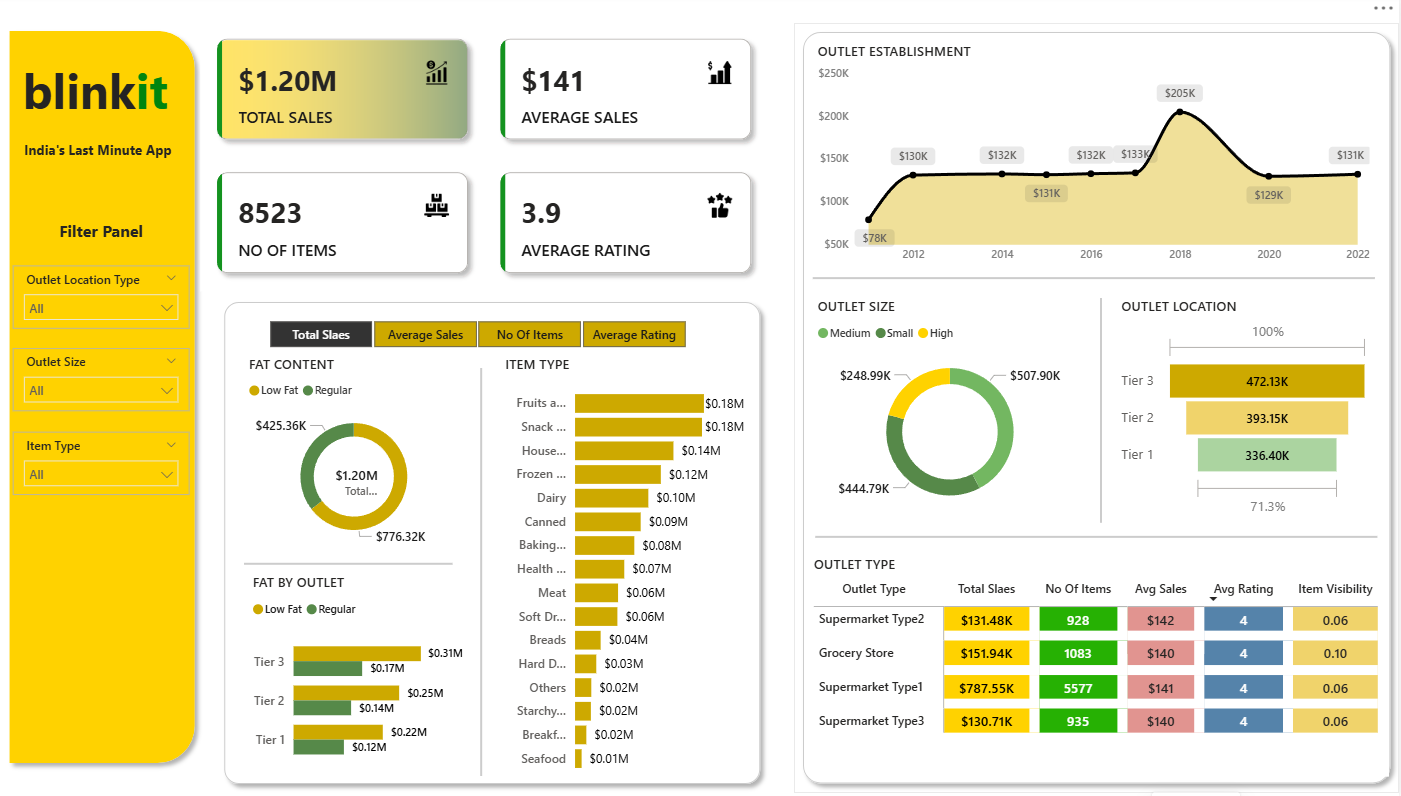

The dashboard page shown, as its layout file describes it:
{"tool":"powerbi","page":{"name":"Page 1","canvas":[1400,800],"ordinal":0},"visuals":[{"type":"shape","box":[1.3,24.2,203.5,750.4],"z":0},{"type":"textbox","box":[14,53.4,165.3,75],"z":1000},{"type":"textbox","box":[14,137.4,174.2,34.3],"z":2000},{"type":"cardVisual","fields":{"Data":["BlinkIT Grocery Data.Total Slaes","BlinkIT Grocery Data.Average Sales","BlinkIT Grocery Data.No Of Items","BlinkIT Grocery Data.Average Rating"]},"box":[200.9,24.2,569.8,269.6],"z":3000},{"type":"shape","box":[216,295,554,500],"z":4000},{"type":"donutChart","title":" FAT CONTENT","fields":{"Y":["BlinkIT Grocery Data.Total Slaes"],"Category":["BlinkIT Grocery Data.Item Fat Content"]},"box":[245.5,356.1,220,199.7],"z":5000},{"type":"slicer","fields":{"Values":["Metrics.Metrics"]},"box":[245.5,316.7,465.5,39.4],"z":6000},{"type":"cardVisual","fields":{"Data":["BlinkIT Grocery Data.Total Slaes"]},"box":[319.2,451.5,78.9,58.5],"z":7000},{"type":"clusteredBarChart","title":"FAT BY OUTLET","fields":{"Y":["BlinkIT Grocery Data.Total Slaes"],"Category":["BlinkIT Grocery Data.Outlet Location Type"],"Series":["BlinkIT Grocery Data.Item Fat Content"]},"box":[249.3,574.9,220,203.5],"z":8000},{"type":"shape","box":[245.5,555.8,208.6,19.1],"z":9000},{"type":"shape","box":[465.5,370.1,34.3,408.2],"z":10000},{"type":"barChart","title":"ITEM TYPE","fields":{"Y":["BlinkIT Grocery Data.Total Slaes"],"Category":["BlinkIT Grocery Data.Item Type"]},"box":[501.1,356.1,249.3,428.6],"z":11000},{"type":"shape","box":[794.9,25.4,605.4,769.4],"z":12000},{"type":"lineChart","title":"OUTLET ESTABLISHMENT","fields":{"Category":["BlinkIT Grocery Data.Outlet Establishment Year"],"Y":["BlinkIT Grocery Data.Total Slaes"]},"box":[814,43.2,562.1,230.2],"z":13000},{"type":"shape","box":[814,273.4,562.1,12.7],"z":14000},{"type":"donutChart","title":"OUTLET SIZE","fields":{"Y":["BlinkIT Grocery Data.Total Slaes"],"Category":["BlinkIT Grocery Data.Outlet Size"]},"box":[814,298.9,274.7,225.1],"z":15000},{"type":"shape","box":[1095,300.1,14,225.1],"z":16000},{"type":"funnel","title":"OUTLET LOCATION","fields":{"Y":["Sum(BlinkIT Grocery Data.Sales)"],"Category":["BlinkIT Grocery Data.Outlet Location Type"]},"box":[1117.9,298.9,258.2,225.1],"z":17000},{"type":"shape","box":[816.5,532.9,562.1,12.7],"z":18000},{"type":"pivotTable","title":"OUTLET TYPE","fields":{"Rows":["BlinkIT Grocery Data.Outlet Type"],"Values":["BlinkIT Grocery Data.Total Slaes","BlinkIT Grocery Data.No Of Items","BlinkIT Grocery Data.Average Sales","BlinkIT Grocery Data.Average Rating","Avg(BlinkIT Grocery Data.Item Visibility)"]},"box":[810.1,555.8,579.9,222.6],"z":19000},{"type":"slicer","fields":{"Values":["BlinkIT Grocery Data.Outlet Location Type"]},"box":[14,267.1,176.8,63.6],"z":20000},{"type":"slicer","fields":{"Values":["BlinkIT Grocery Data.Outlet Size"]},"box":[14,349.7,176.8,63.6],"z":21000},{"type":"slicer","fields":{"Values":["BlinkIT Grocery Data.Item Type"]},"box":[14,433.7,176.8,63.6],"z":22000},{"type":"textbox","box":[14,216.2,176.8,35.6],"z":23000}]}

Visuals, with their boxes in screenshot pixels (x1, y1, x2, y2), scaled from the page's 1400x800 canvas onto the 1401x796 screenshot:
shape: [x1=1, y1=24, x2=205, y2=771]
textbox: [x1=14, y1=53, x2=179, y2=128]
textbox: [x1=14, y1=137, x2=188, y2=171]
cardVisual - BlinkIT Grocery Data.Total Slaes x BlinkIT Grocery Data.Average Sales: [x1=201, y1=24, x2=771, y2=292]
shape: [x1=216, y1=294, x2=771, y2=791]
" FAT CONTENT" donutChart: [x1=246, y1=354, x2=466, y2=553]
slicer - Metrics.Metrics: [x1=246, y1=315, x2=712, y2=354]
cardVisual - BlinkIT Grocery Data.Total Slaes: [x1=319, y1=449, x2=398, y2=507]
"FAT BY OUTLET" clusteredBarChart: [x1=249, y1=572, x2=470, y2=775]
shape: [x1=246, y1=553, x2=454, y2=572]
shape: [x1=466, y1=368, x2=500, y2=774]
"ITEM TYPE" barChart: [x1=501, y1=354, x2=751, y2=781]
shape: [x1=795, y1=25, x2=1400, y2=791]
"OUTLET ESTABLISHMENT" lineChart: [x1=815, y1=43, x2=1377, y2=272]
shape: [x1=815, y1=272, x2=1377, y2=285]
"OUTLET SIZE" donutChart: [x1=815, y1=297, x2=1089, y2=521]
shape: [x1=1096, y1=299, x2=1110, y2=523]
"OUTLET LOCATION" funnel: [x1=1119, y1=297, x2=1377, y2=521]
shape: [x1=817, y1=530, x2=1380, y2=543]
"OUTLET TYPE" pivotTable: [x1=811, y1=553, x2=1391, y2=775]
slicer - BlinkIT Grocery Data.Outlet Location Type: [x1=14, y1=266, x2=191, y2=329]
slicer - BlinkIT Grocery Data.Outlet Size: [x1=14, y1=348, x2=191, y2=411]
slicer - BlinkIT Grocery Data.Item Type: [x1=14, y1=432, x2=191, y2=495]
textbox: [x1=14, y1=215, x2=191, y2=251]
